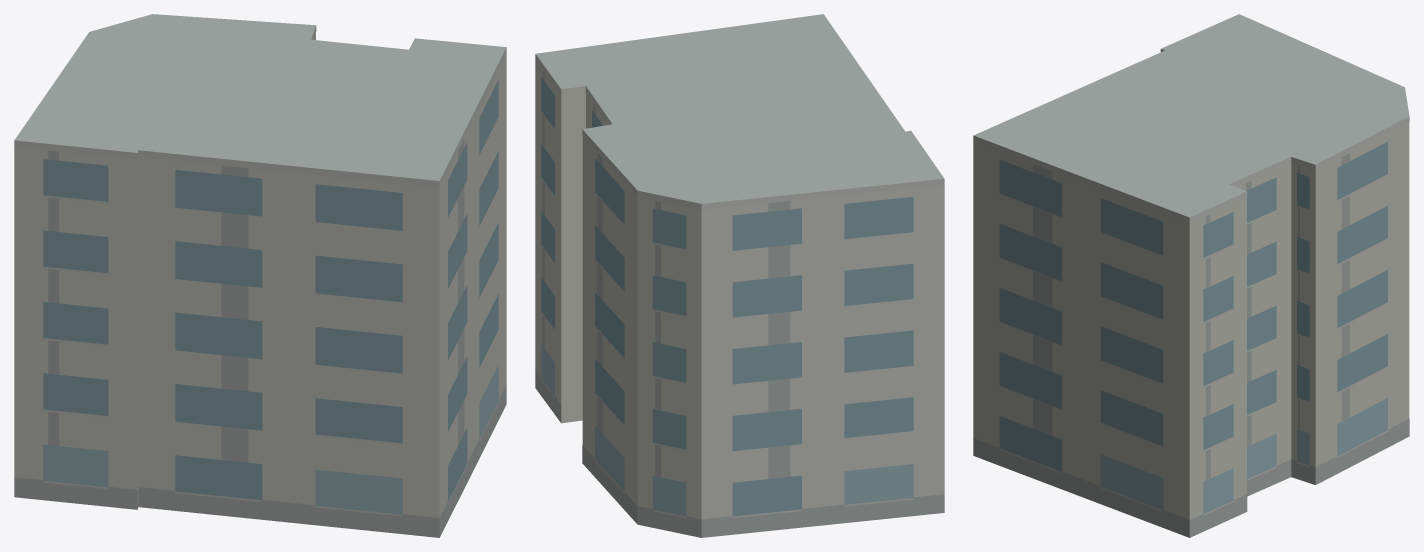
Rendered from survey-upis-33043650.glb.
The picture shows the model from 3 angles, left to right: view 1: azimuth 30°, elevation 25°; view 2: azimuth 150°, elevation 25°; view 3: azimuth 270°, elevation 25°; orthographic projection. The views are drawn at different scales.
Parts seen in each view (by area): view 1: survey-upis-33043650.tmp; view 2: survey-upis-33043650.tmp; view 3: survey-upis-33043650.tmp.
Part boxes in pixels (x1=…): survey-upis-33043650.tmp: x1=14, y1=14, x2=506, y2=537; survey-upis-33043650.tmp: x1=535, y1=14, x2=944, y2=537; survey-upis-33043650.tmp: x1=973, y1=14, x2=1409, y2=537.
Size of the model in its own units: 17.66 by 12.95 by 15.99.
